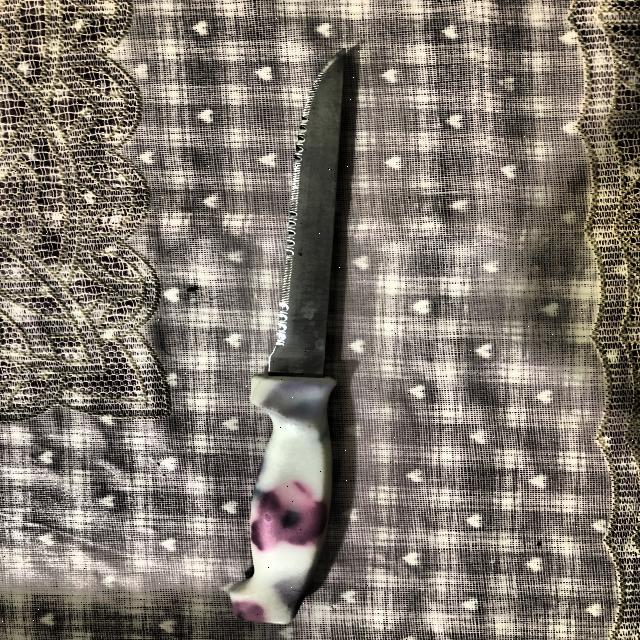knife: (231, 48, 351, 620)
